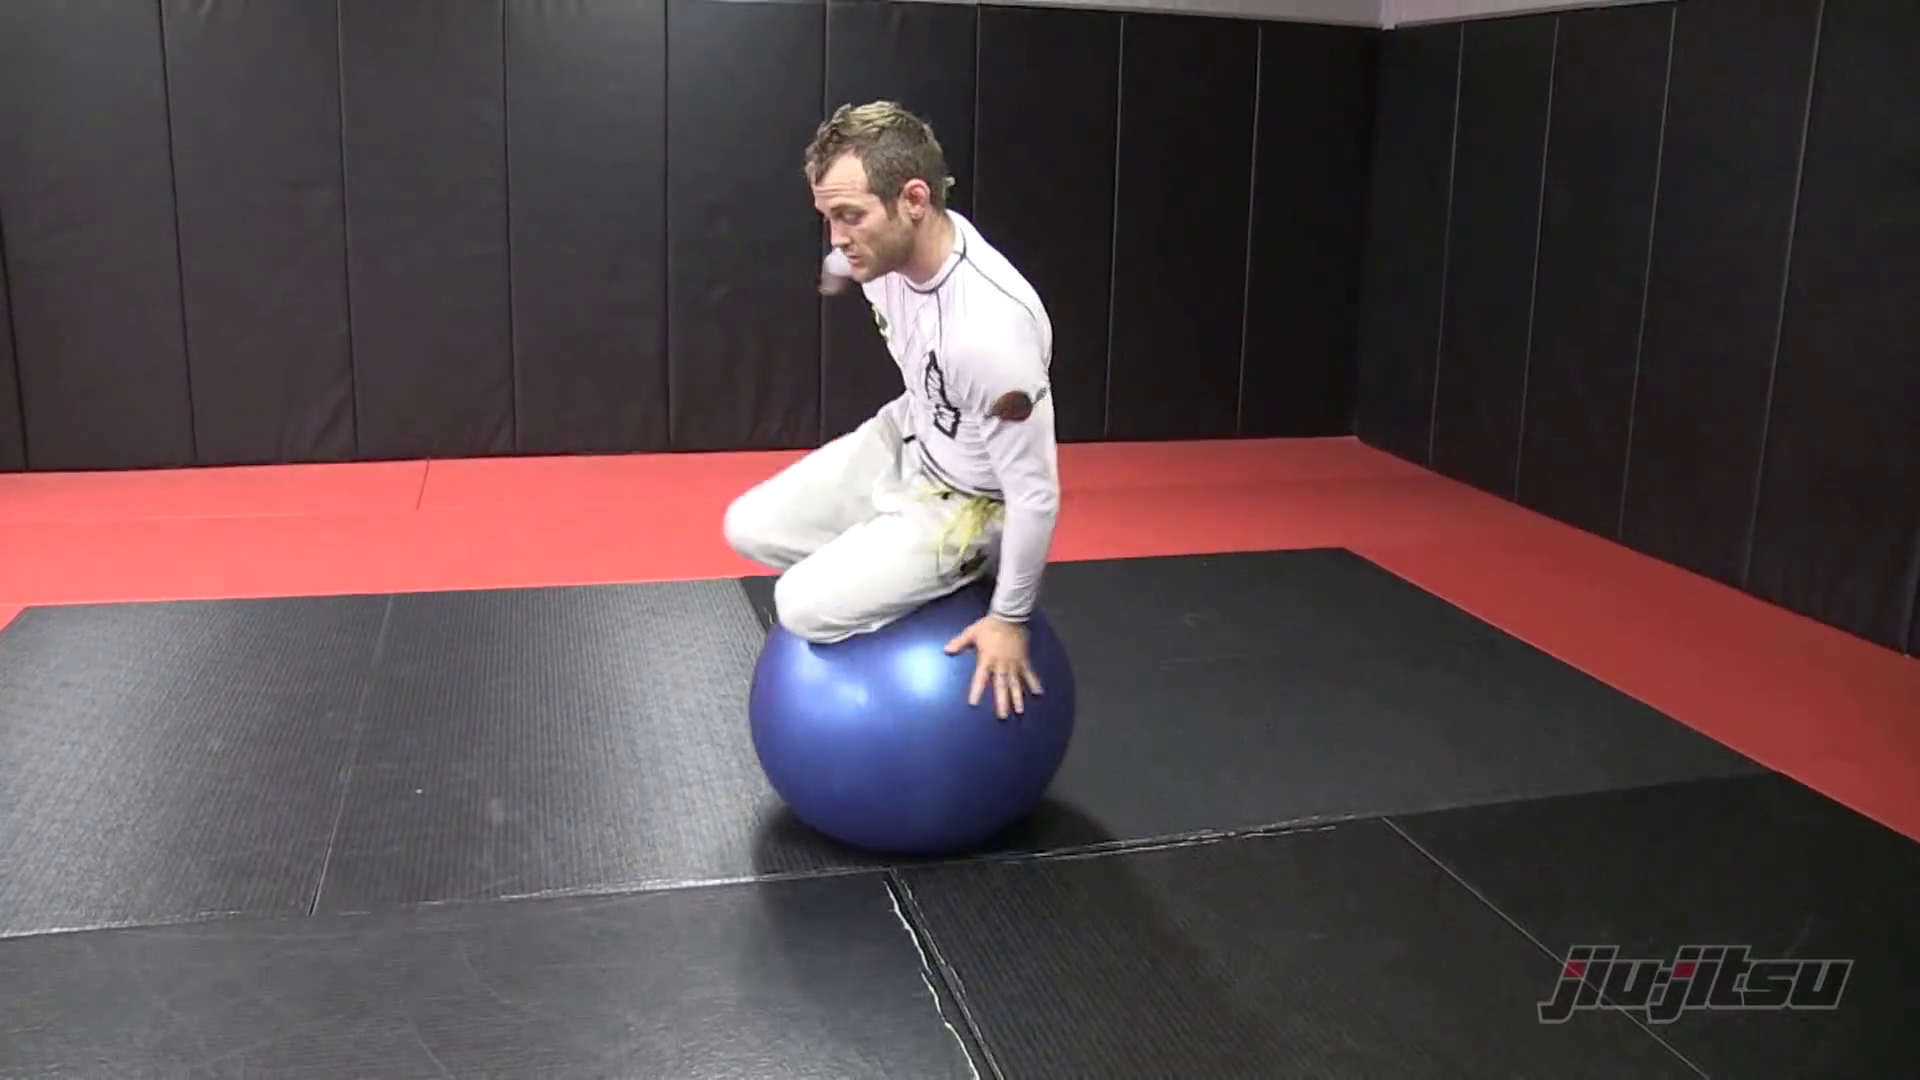yogaball: (733, 576, 1102, 873)
